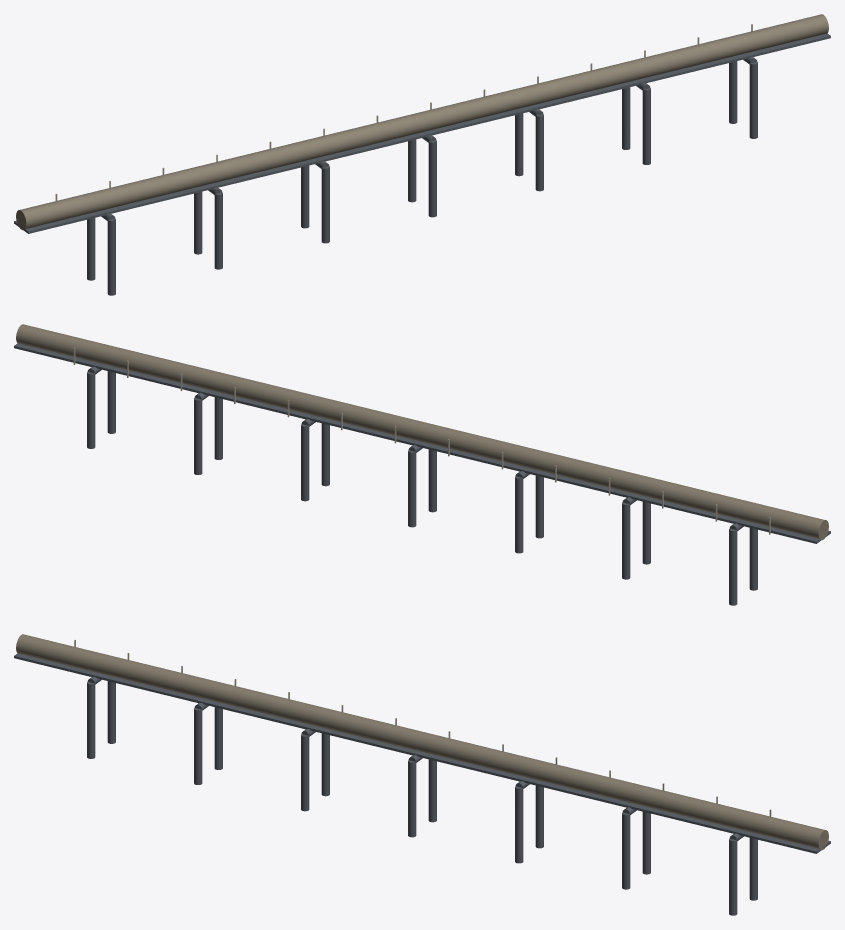
File: g03-bridge-pipeline.glb
3 renders of one model, top to bottom at view 1: azimuth 30°, elevation 25°; view 2: azimuth 150°, elevation 25°; view 3: azimuth 330°, elevation 25°, orthographic.
Parts seen in each view (by area): view 1: part21, part22, part9, part6, part12, part3, part0, part15, part18, part10, part4, part13 (+4 smaller); view 2: part21, part22, part10, part13, part4, part7, part1, part16, part19, part9, part3, part12 (+4 smaller); view 3: part21, part22, part9, part6, part12, part15, part18, part0, part3, part10, part7, part16 (+4 smaller).
Part boxes in pixels (x1,y1,x2,y2): part21: [16, 14, 828, 229]; part22: [14, 33, 830, 233]; part9: [428, 140, 436, 217]; part6: [321, 166, 329, 243]; part12: [535, 114, 543, 191]; part3: [214, 192, 222, 269]; part0: [107, 218, 115, 295]; part15: [642, 88, 650, 164]; part18: [749, 62, 757, 138]; part10: [408, 139, 416, 202]; part4: [194, 191, 202, 254]; part13: [515, 113, 523, 176]; part21: [16, 324, 828, 540]; part22: [14, 343, 830, 543]; part10: [408, 450, 416, 527]; part13: [301, 424, 309, 501]; part4: [622, 502, 630, 579]; part7: [515, 476, 523, 553]; part1: [729, 528, 737, 605]; part16: [194, 398, 202, 474]; part19: [87, 372, 95, 448]; part9: [428, 449, 436, 512]; part3: [642, 501, 650, 564]; part12: [321, 423, 329, 486]; part21: [16, 634, 828, 850]; part22: [14, 653, 830, 853]; part9: [408, 760, 416, 837]; part6: [301, 734, 309, 811]; part12: [515, 786, 523, 863]; part15: [622, 812, 630, 889]; part18: [729, 838, 737, 915]; part0: [87, 682, 95, 758]; part3: [194, 708, 202, 784]; part10: [428, 759, 436, 822]; part7: [321, 733, 329, 796]; part16: [642, 811, 650, 874].
Bounding box in the file's own units: 45000 × 5100 × 2400.
